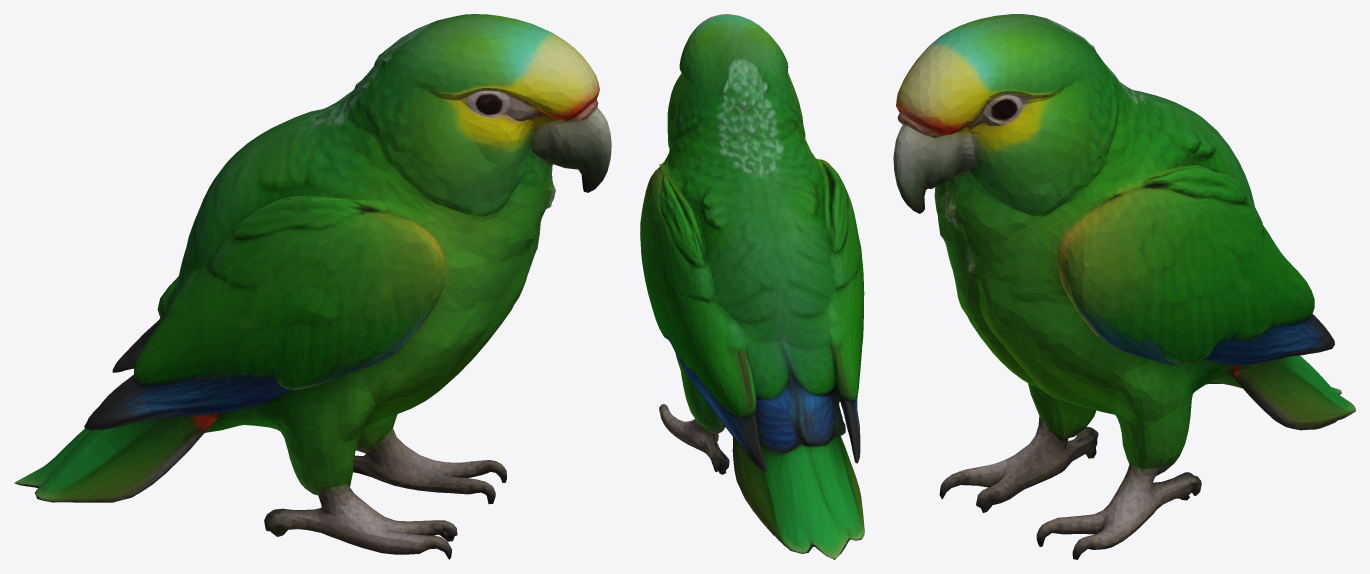
The model's file is birdy.glb.
The picture shows the model from 3 angles, left to right: view 1: azimuth 30°, elevation 25°; view 2: azimuth 150°, elevation 25°; view 3: azimuth 270°, elevation 25°; orthographic projection. The views are drawn at different scales.
Visible parts, largest first — view 1: world; view 2: world; view 3: world.
Part boxes in pixels (box(x1,y1,x2,y2)): world: box(14, 14, 611, 559); world: box(640, 14, 864, 559); world: box(893, 14, 1355, 559).
Bounding box in the file's own units: 0.7044 × 0.8793 × 0.7124.
1 material, 1 textured.
